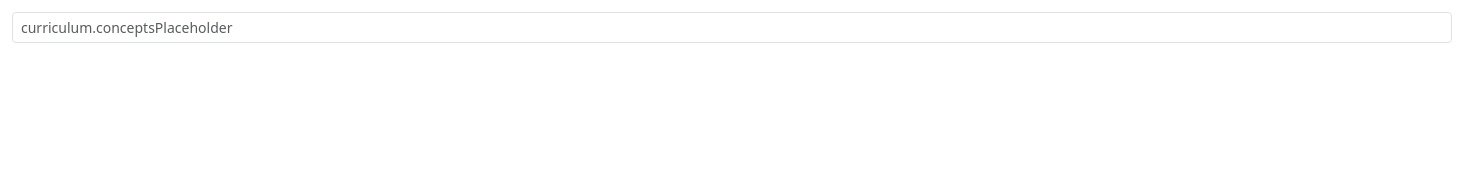
Scenario: ConceptPicker › as a blacklist/whitelist picker › leaves excluded names out of the suggestions
This screenshot has width=1464, height=183.
Focus the dropdown: (732, 28) [12,12,1452,43]
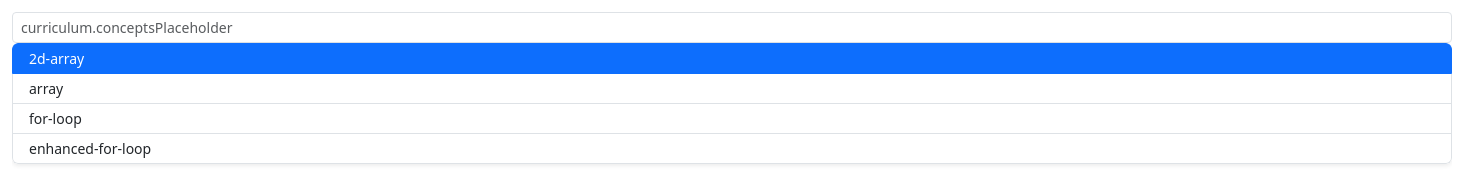
Expected: the option "array" is shown, [12,74,1452,104]
